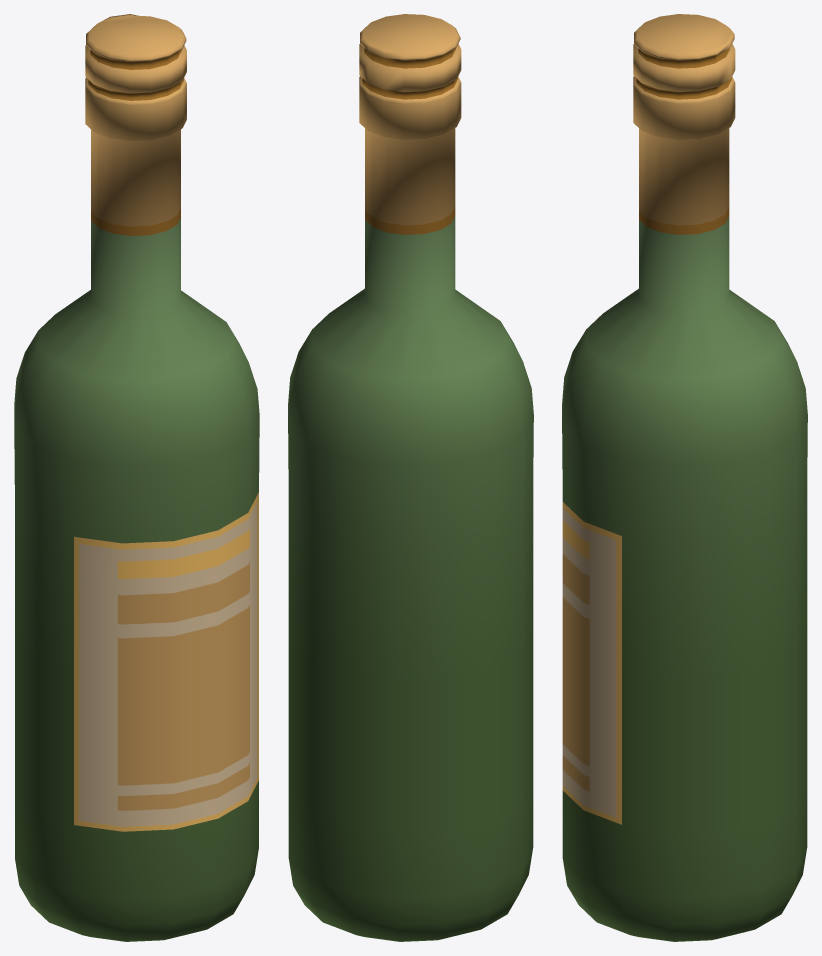
The model's file is winebottle1.fbx.
The picture shows the model from 3 angles, left to right: view 1: azimuth 30°, elevation 25°; view 2: azimuth 150°, elevation 25°; view 3: azimuth 270°, elevation 25°; orthographic projection.
Visible parts, largest first — view 1: bottle; view 2: bottle; view 3: bottle.
Boxes of the visible parts, <box> form: bottle: <box>14,14,259,941</box>; bottle: <box>288,14,533,941</box>; bottle: <box>562,14,807,941</box>.
Bounding box in the file's own units: 2 × 7.77 × 1.99.
